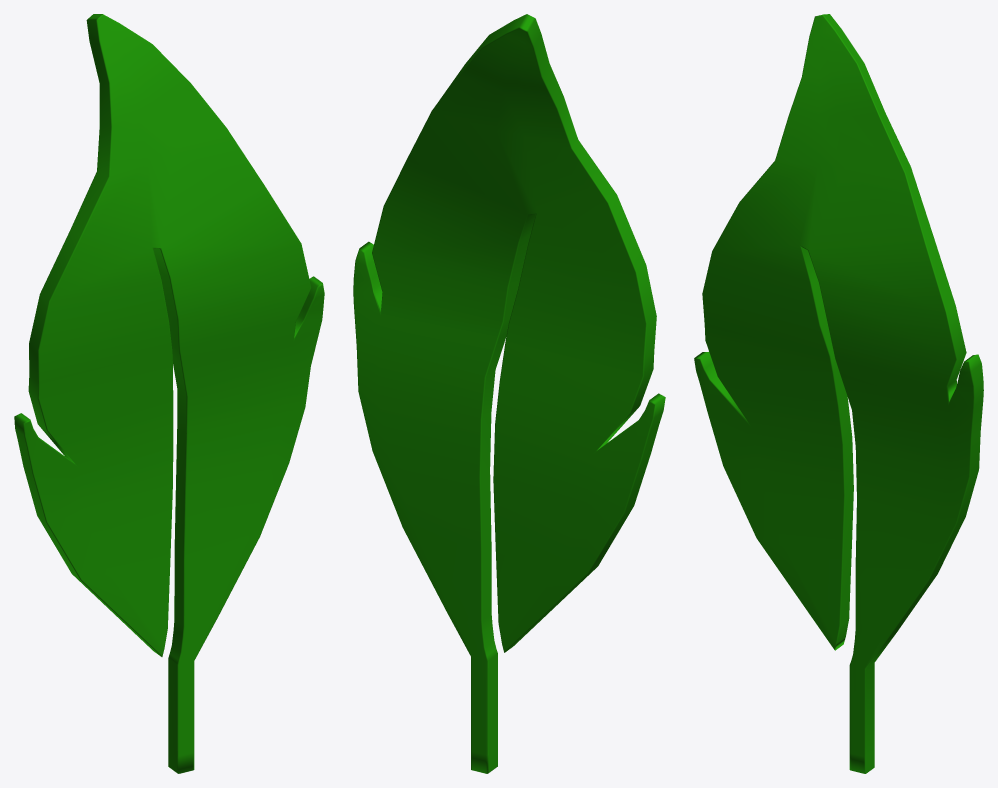
File: SM_EarthIcon.fbx
3 renders of one model, left to right at view 1: azimuth 30°, elevation 25°; view 2: azimuth 150°, elevation 25°; view 3: azimuth 330°, elevation 25°, orthographic. The views are drawn at different scales.
Visible parts, largest first — view 1: EarthMesh; view 2: EarthMesh; view 3: EarthMesh.
Boxes of the visible parts, bbox=[...] form: EarthMesh: bbox=[14, 14, 324, 773]; EarthMesh: bbox=[353, 14, 665, 773]; EarthMesh: bbox=[694, 14, 983, 773].
Bounding box in the file's own units: 134 × 328 × 35.84.
